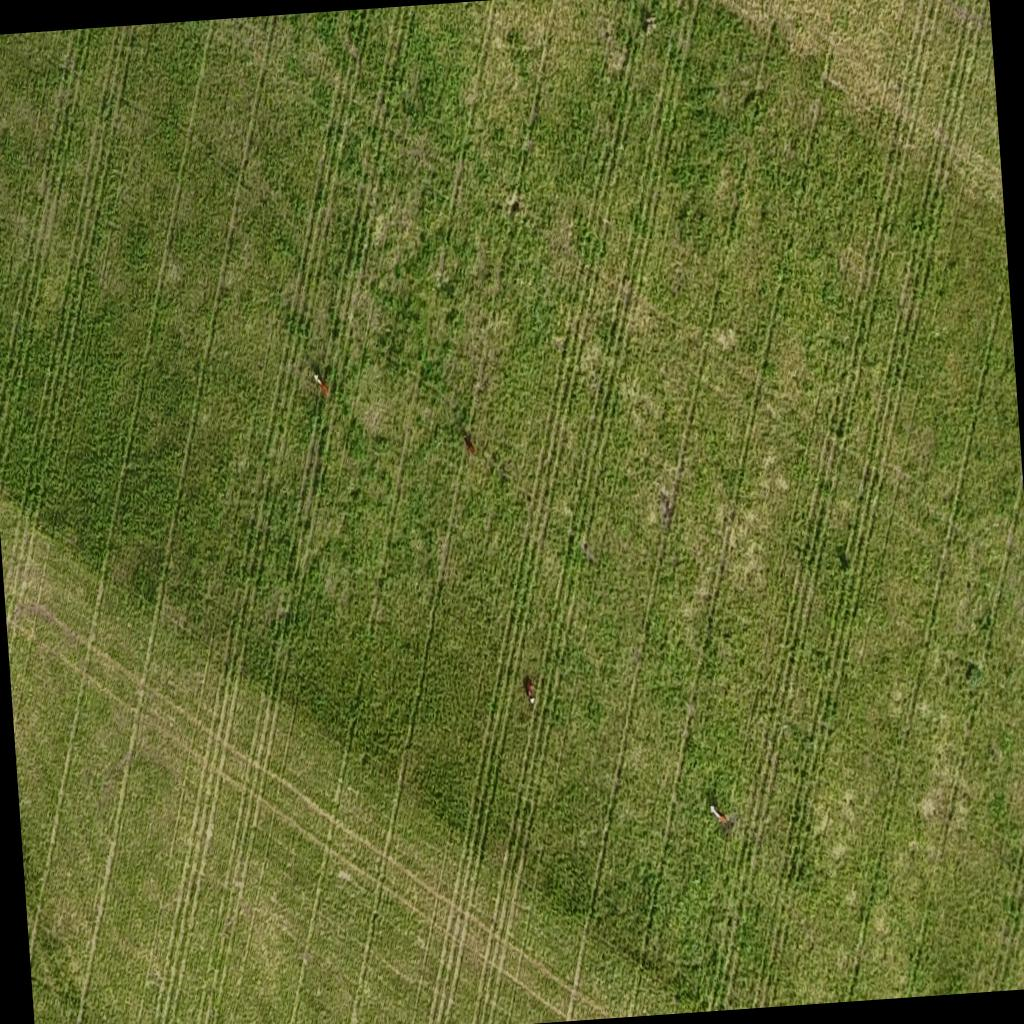cow: (706, 797, 736, 835), (522, 674, 539, 709), (312, 370, 329, 398), (462, 431, 478, 458)
